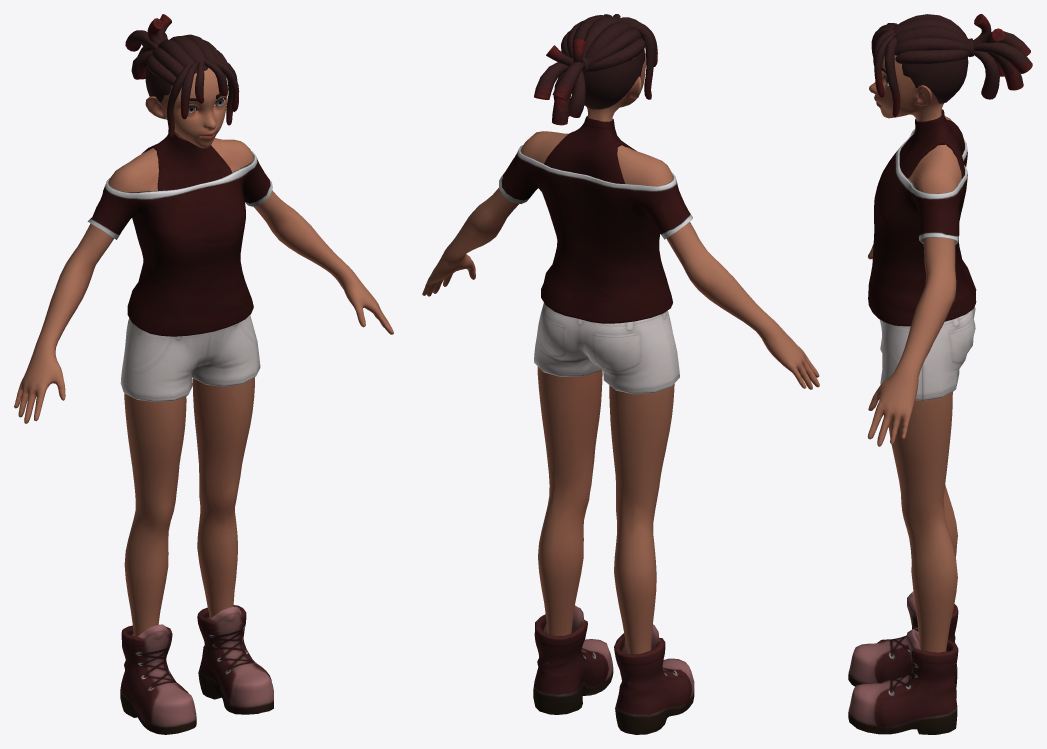
File: Roxy_Mesh.obj
3 renders of one model, left to right at view 1: azimuth 30°, elevation 25°; view 2: azimuth 150°, elevation 25°; view 3: azimuth 270°, elevation 25°, orthographic. The views are drawn at different scales.
Parts seen in each view (by area): view 1: Roxy_Mesh_0; view 2: Roxy_Mesh_0; view 3: Roxy_Mesh_0.
Boxes of the visible parts, left/top/right/bottom form: Roxy_Mesh_0: left=14, top=14, right=393, bottom=734; Roxy_Mesh_0: left=422, top=14, right=819, bottom=734; Roxy_Mesh_0: left=848, top=14, right=1032, bottom=734.
Size of the model in its own units: 1.06 by 1.82 by 0.4409.
1 material, 1 textured.
